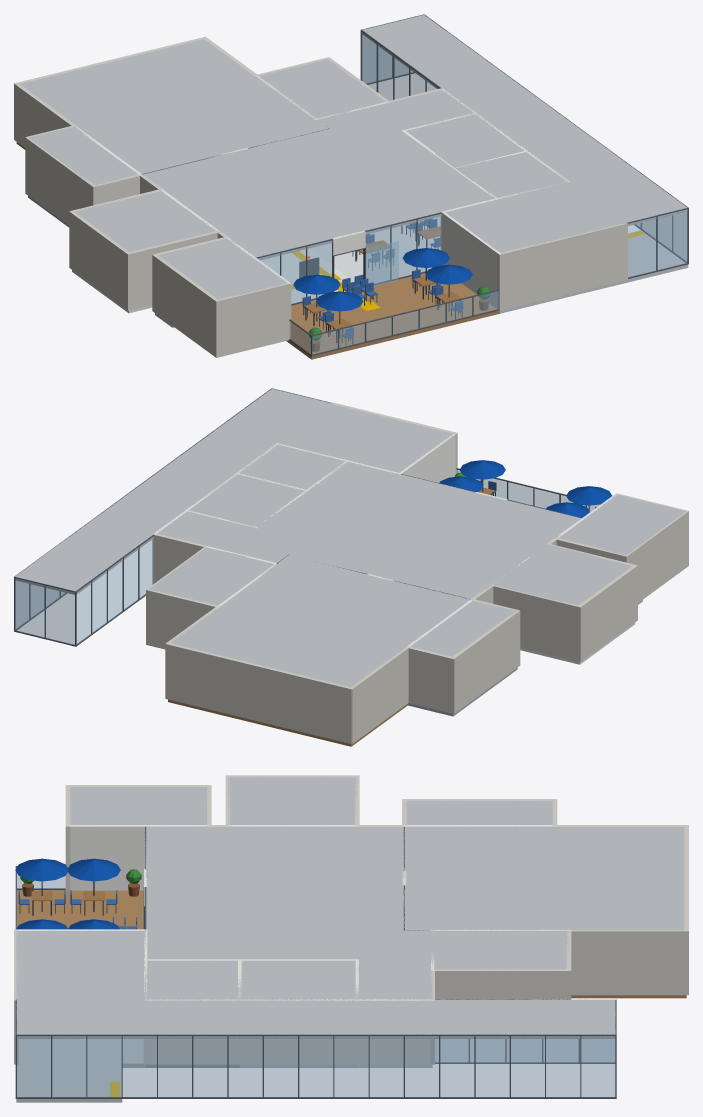
Rendered from predio-teste-p03.glb.
3 renders of one model, top to bottom at view 1: azimuth 30°, elevation 25°; view 2: azimuth 150°, elevation 25°; view 3: azimuth 270°, elevation 25°, orthographic. The views are drawn at different scales.
Visible parts, largest first — view 1: PCTP03COBERTURA_GERAL, PCTP03PAREDE_GERAL, PCTP03PISO_LAJE, PCTP03MOBILIA_GERAL, PCTP03PORTA_GERAL, PCTP03OBSTACULO_02; view 2: PCTP03COBERTURA_GERAL, PCTP03PAREDE_GERAL, PCTP03MOBILIA_GERAL, PCTP03PISO_LAJE; view 3: PCTP03COBERTURA_GERAL, PCTP03PAREDE_GERAL, PCTP03PISO_LAJE, PCTP03MOBILIA_GERAL.
Boxes of the visible parts, box(x1,y1,x2,y2) form: PCTP03COBERTURA_GERAL: box(20, 15, 687, 300); PCTP03PAREDE_GERAL: box(14, 14, 688, 357); PCTP03PISO_LAJE: box(16, 142, 688, 359); PCTP03MOBILIA_GERAL: box(293, 218, 490, 351); PCTP03PORTA_GERAL: box(181, 109, 480, 291); PCTP03OBSTACULO_02: box(342, 274, 377, 305); PCTP03COBERTURA_GERAL: box(15, 388, 685, 687); PCTP03PAREDE_GERAL: box(14, 388, 688, 744); PCTP03MOBILIA_GERAL: box(439, 460, 612, 517); PCTP03PISO_LAJE: box(168, 600, 642, 746); PCTP03COBERTURA_GERAL: box(16, 776, 686, 1038); PCTP03PAREDE_GERAL: box(14, 775, 688, 1098); PCTP03PISO_LAJE: box(16, 890, 686, 1102); PCTP03MOBILIA_GERAL: box(15, 858, 141, 929).
Bounding box in the file's own units: 26.13 × 3.2 × 28.7.
